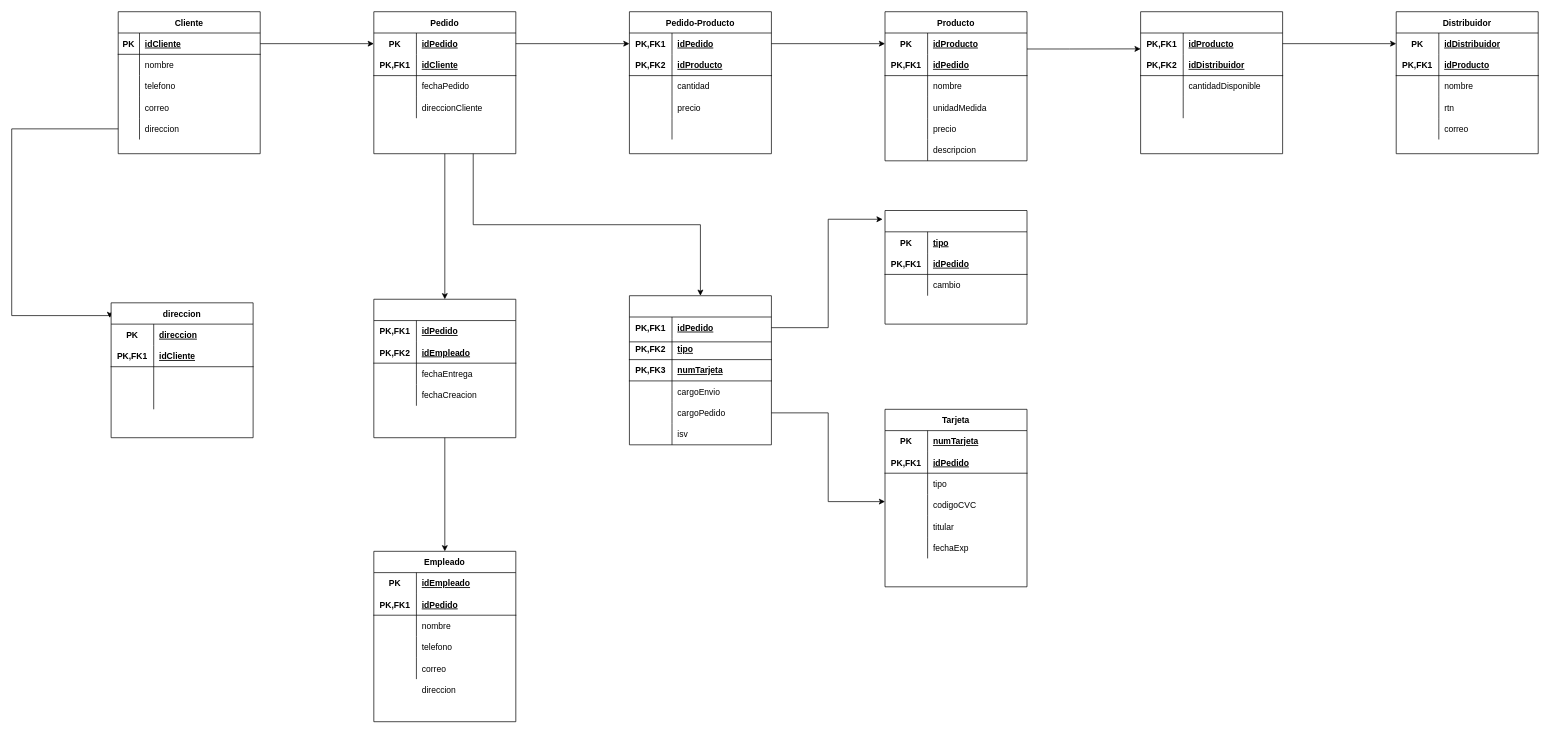
Image size: 1550x733. Some labels were removed from this diagram. The box of each missing label's shape, as (x1, y1, x2, y2) in pixels:
Efectivo: (884, 210, 1027, 324)
Pedido-Despacho: (373, 299, 516, 438)
Pedido-Pago: (629, 295, 771, 445)
Producto-Distribuidor: (1140, 11, 1283, 154)
